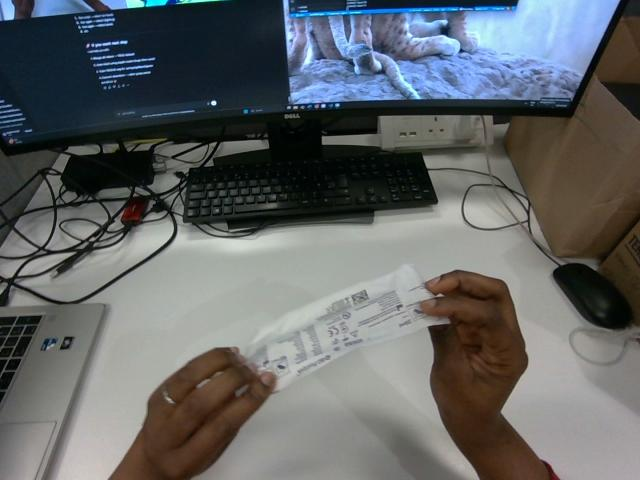syringe: (245, 265, 448, 389)
